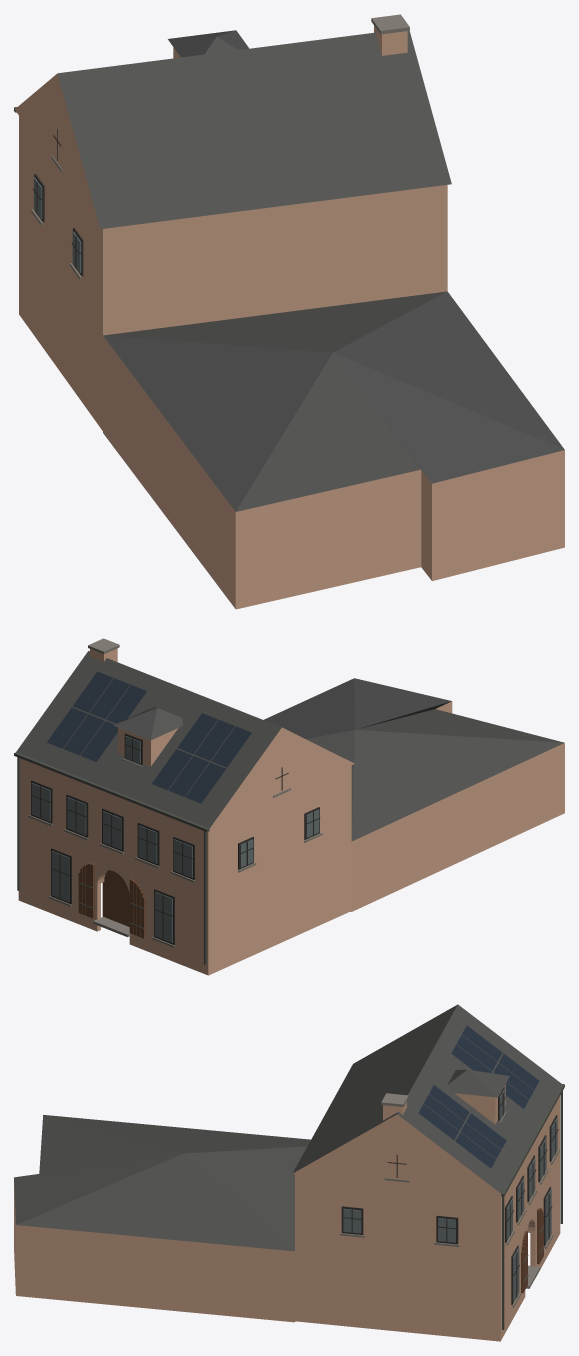
Rendered from dormer_house.glb.
The picture shows the model from 3 angles, top to bottom: view 1: azimuth 30°, elevation 25°; view 2: azimuth 150°, elevation 25°; view 3: azimuth 270°, elevation 25°; orthographic projection. The views are drawn at different scales.
Parts seen in each view (by area): view 1: tiles, brick, stone; view 2: brick, tiles, solar, glass, frames, wood, metal, stone; view 3: brick, tiles, solar, glass, frames, metal, stone, wood.
Part boxes in pixels (x1,y1,x2,y2): tiles: (57, 30, 564, 511); brick: (15, 25, 564, 609); stone: (31, 14, 409, 279); brick: (18, 648, 564, 975); tiles: (16, 651, 564, 841); solar: (47, 671, 251, 803); glass: (31, 736, 319, 942); frames: (31, 733, 320, 944); wood: (78, 863, 145, 938); metal: (14, 752, 209, 964); stone: (28, 638, 322, 947); brick: (14, 1084, 560, 1341); tiles: (14, 1004, 561, 1251); solar: (418, 1025, 539, 1168); glass: (343, 1089, 557, 1302); frames: (341, 1086, 558, 1304); metal: (501, 1084, 564, 1329); stone: (339, 1093, 559, 1307); wood: (521, 1208, 543, 1293).
Size of the model in its own units: 15.79 by 10.59 by 23.22.
